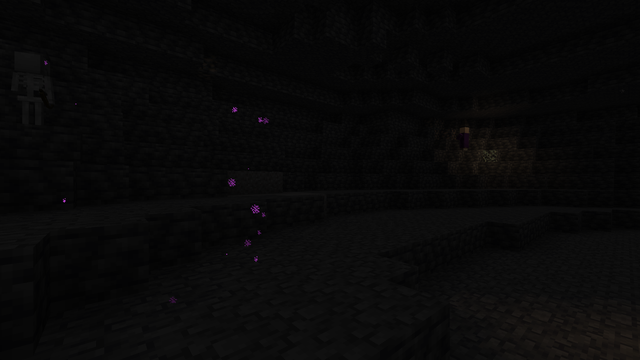sorcieres: (458, 125, 468, 150)
squelettes: (13, 49, 50, 114)
